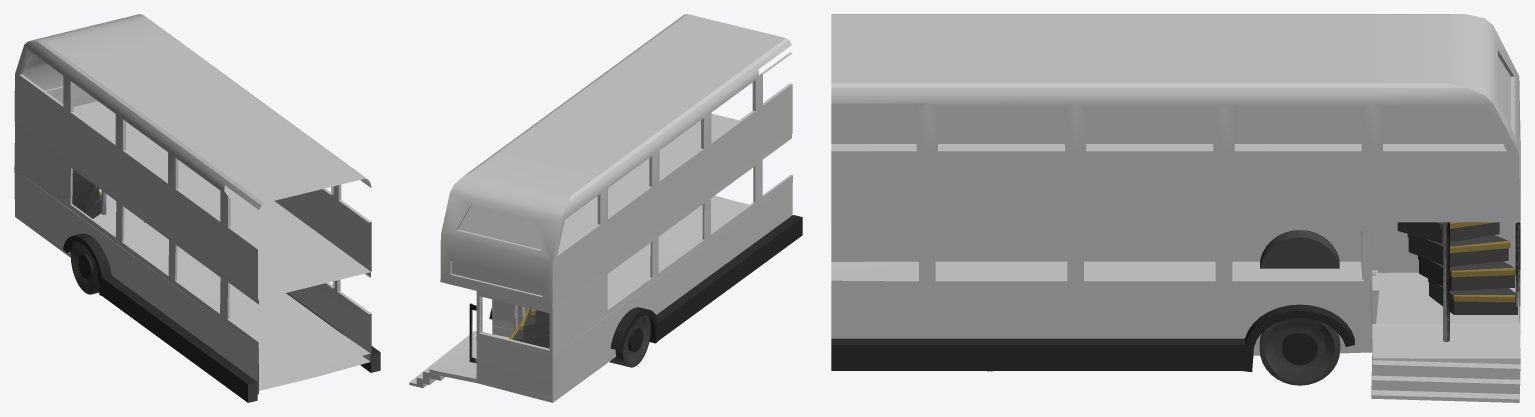
File: busCUT2.fbx
3 views of the same model, side by side, from view 1: azimuth 30°, elevation 25°; view 2: azimuth 150°, elevation 25°; view 3: azimuth 270°, elevation 25° (orthographic). The views are drawn at different scales.
Visible parts, largest first — view 1: Cube.002; view 2: Cube.002; view 3: Cube.002.
Part boxes in pixels (x1,y1,x2,y2): Cube.002: (14, 14, 380, 402); Cube.002: (409, 14, 802, 402); Cube.002: (831, 14, 1520, 402).
Size of the model in its own units: 342 by 436 by 930.
